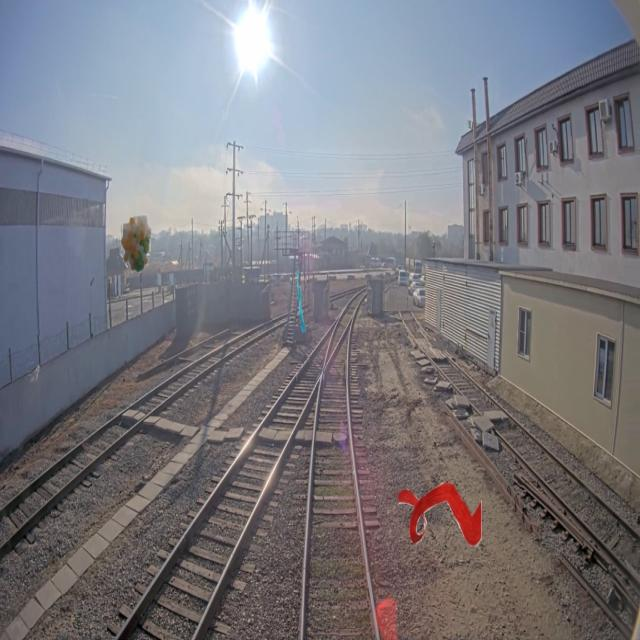balloon: (120, 209, 151, 273)
floating object: (399, 482, 482, 546), (290, 263, 310, 343)
